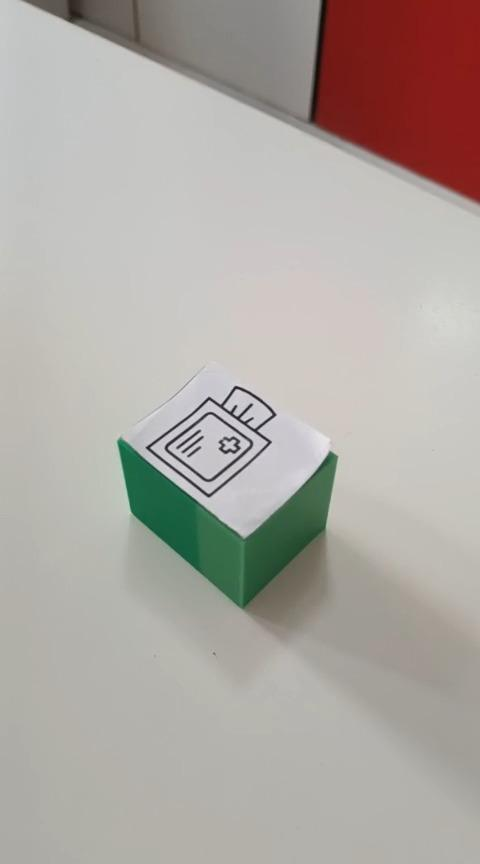Gauze: (116, 360, 338, 609)
